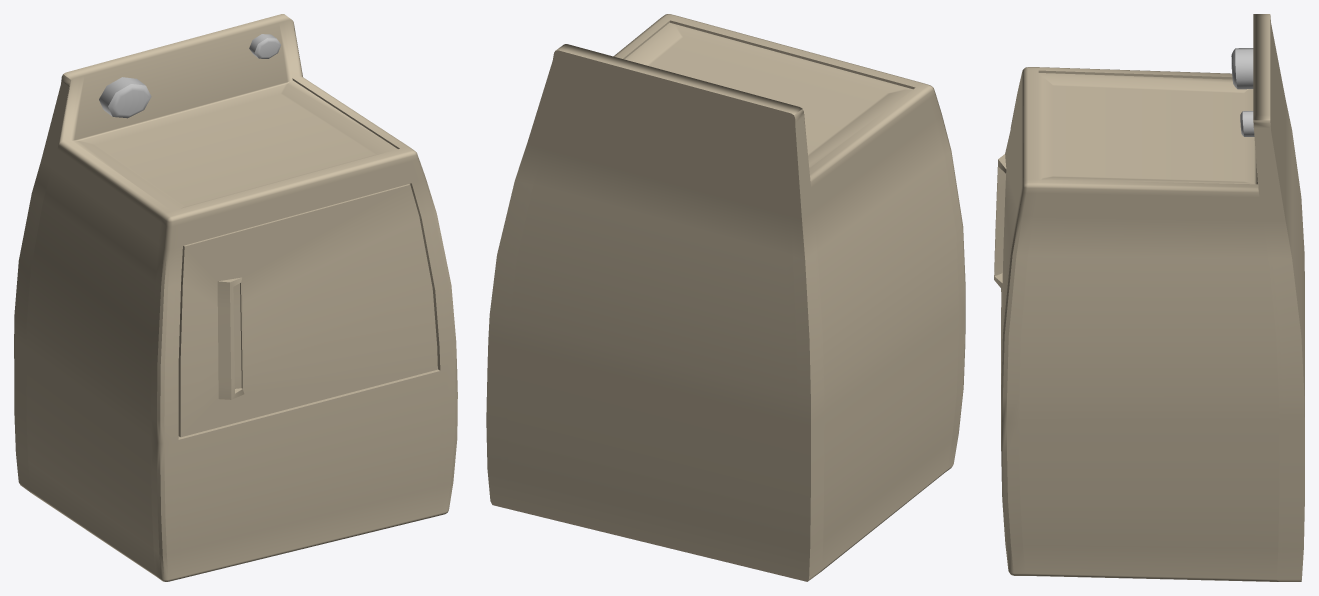
Rendered from dryer_anim_03.fbx.
3 renders of one model, left to right at view 1: azimuth 30°, elevation 25°; view 2: azimuth 150°, elevation 25°; view 3: azimuth 270°, elevation 25°, orthographic. The views are drawn at different scales.
Parts seen in each view (by area): view 1: dryer_high:dryer; view 2: dryer_high:dryer; view 3: dryer_high:dryer.
Boxes of the visible parts, x1=… form: dryer_high:dryer: x1=14, y1=14, x2=457, y2=581; dryer_high:dryer: x1=486, y1=14, x2=965, y2=581; dryer_high:dryer: x1=994, y1=14, x2=1304, y2=581.
Size of the model in its own units: 82.31 by 111 by 70.51.
